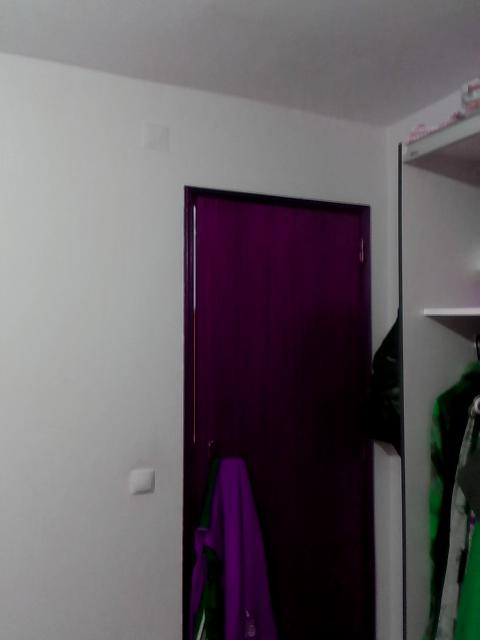closed_door: (180, 186, 375, 639)
